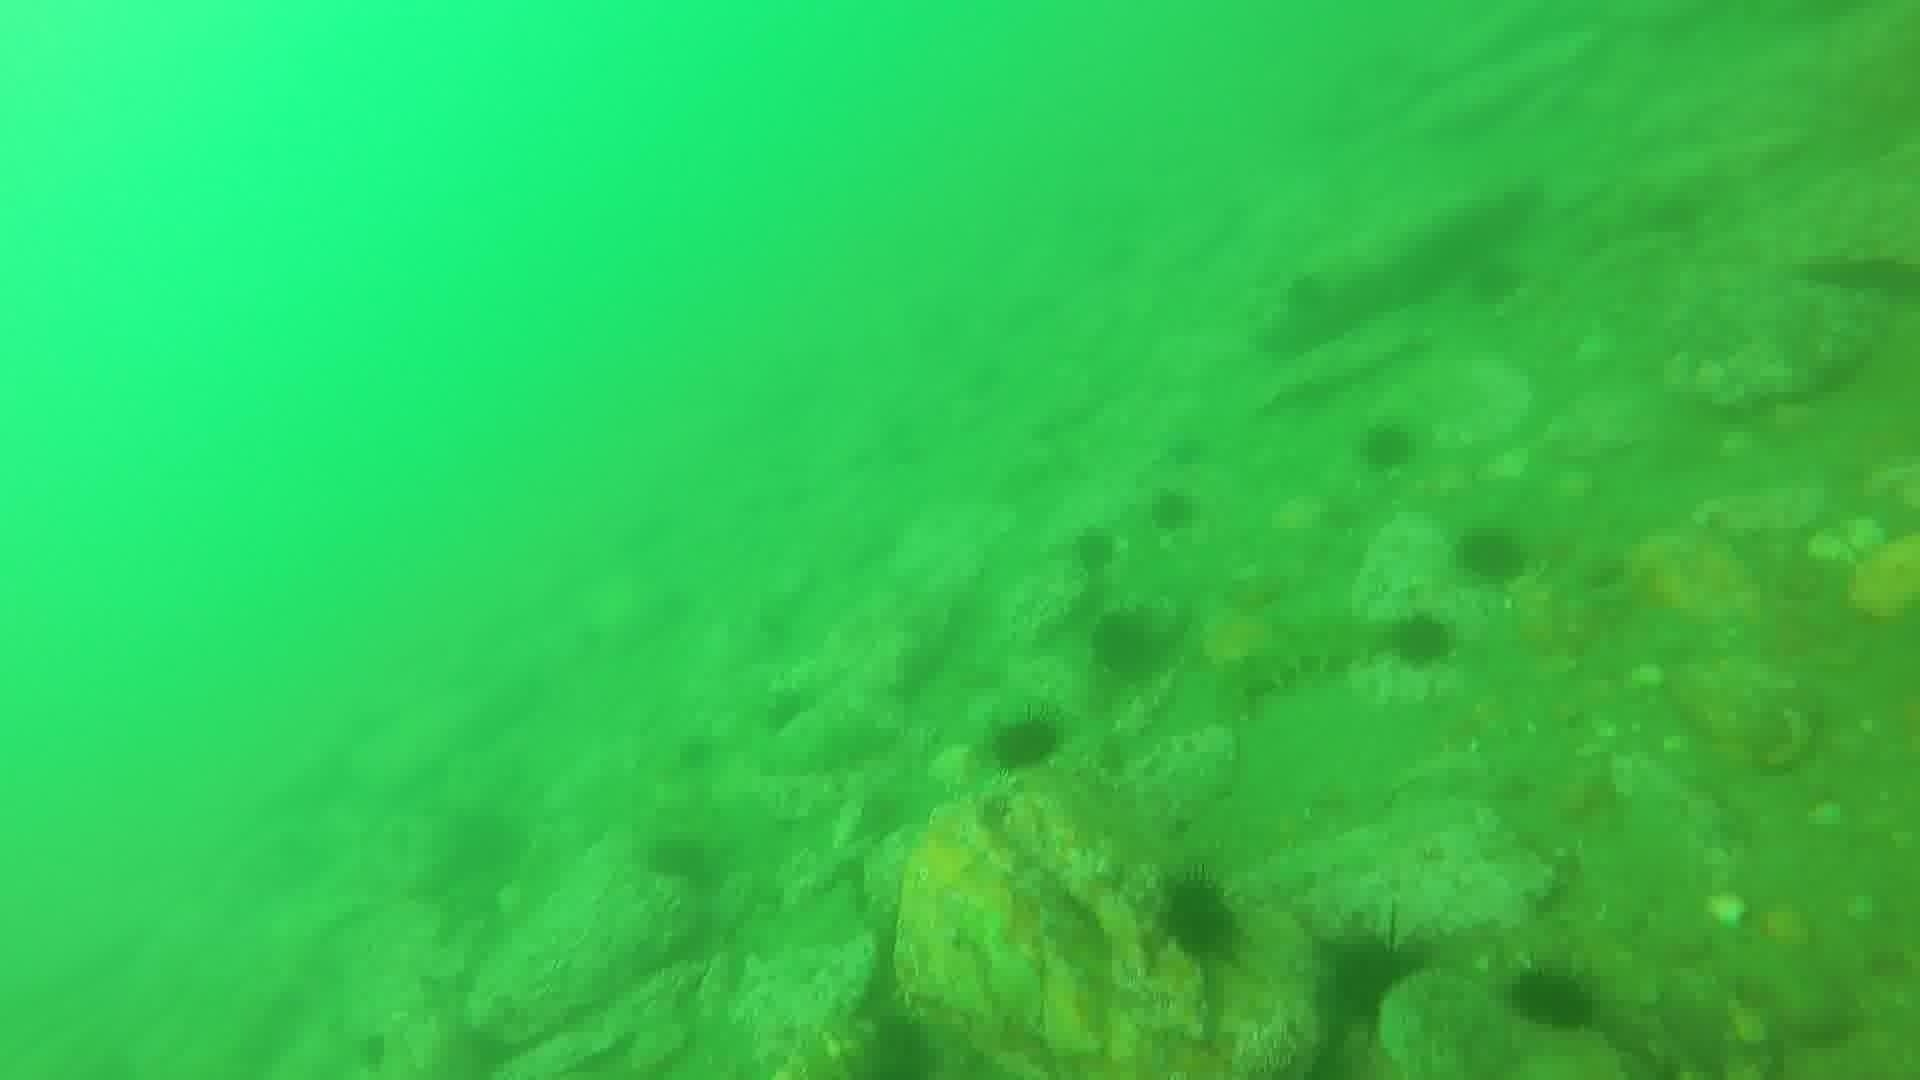echinus: (1309, 920, 1433, 1034), (1151, 870, 1246, 967), (1505, 960, 1602, 1038), (1085, 605, 1170, 686), (853, 1010, 943, 1077), (982, 707, 1067, 778), (1451, 521, 1532, 589), (641, 828, 725, 894), (1382, 608, 1458, 674), (1353, 415, 1422, 477), (1462, 252, 1528, 310), (1065, 524, 1124, 580), (1145, 484, 1203, 537)
holothurian: (1229, 607, 1402, 702)
